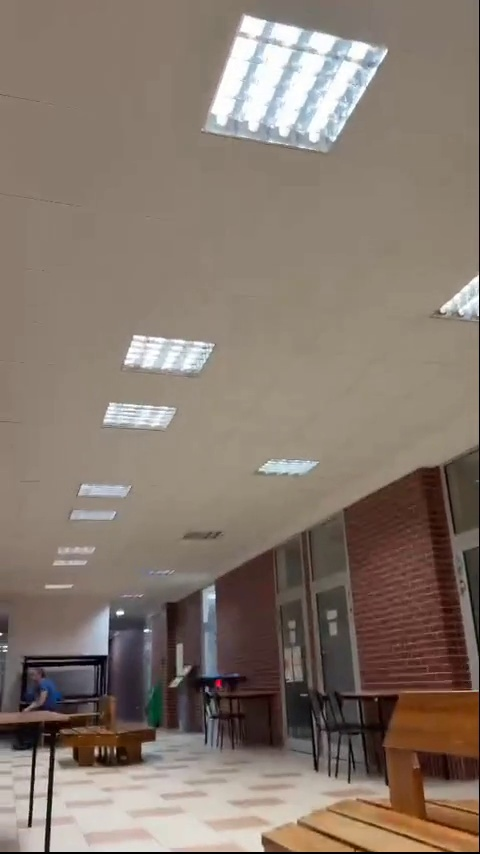drone: (190, 672, 247, 695)
no vest: (29, 665, 63, 719)
